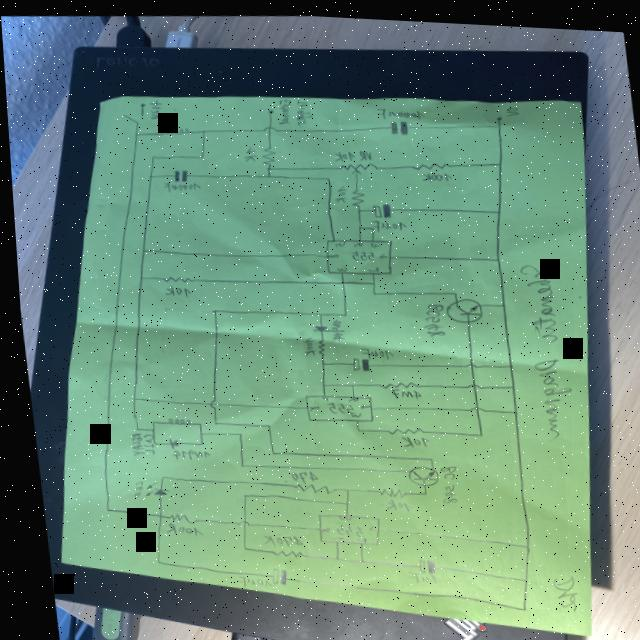capacitor: (405, 551, 429, 571), (385, 114, 409, 133), (368, 197, 390, 217), (261, 563, 280, 584), (344, 353, 364, 370), (169, 167, 187, 181)
crossover: (460, 377, 475, 387), (228, 516, 243, 526), (462, 401, 478, 409), (457, 358, 473, 366), (201, 396, 212, 407), (259, 123, 275, 130), (334, 276, 343, 284)
diode: (136, 480, 163, 497), (306, 320, 326, 331), (161, 436, 173, 448)
inductor: (163, 124, 189, 134), (160, 415, 185, 425)
junction: (502, 379, 511, 386), (505, 404, 513, 411), (351, 204, 359, 211), (510, 601, 519, 607), (500, 358, 509, 364), (420, 452, 429, 458), (493, 156, 501, 162), (470, 427, 478, 433), (491, 204, 499, 210), (494, 297, 502, 303), (516, 539, 524, 545), (150, 512, 156, 520), (230, 429, 237, 435), (147, 558, 154, 564), (136, 246, 143, 252), (353, 221, 360, 227), (191, 419, 198, 425), (233, 491, 241, 496), (97, 506, 103, 512), (414, 486, 420, 492), (233, 543, 239, 549), (349, 424, 355, 430), (490, 252, 497, 257), (350, 555, 357, 560), (366, 287, 373, 292), (206, 307, 213, 312), (325, 554, 332, 559), (336, 484, 343, 489), (322, 173, 329, 178), (134, 274, 141, 279), (263, 448, 269, 453), (259, 421, 265, 426), (147, 153, 153, 158), (198, 127, 204, 132), (232, 461, 238, 466), (196, 152, 202, 157), (125, 395, 131, 400), (447, 286, 453, 291), (131, 131, 137, 136), (127, 425, 133, 430), (262, 171, 269, 175), (366, 277, 371, 282), (206, 419, 212, 423), (152, 474, 158, 478), (343, 380, 349, 384), (337, 309, 343, 313), (143, 419, 149, 423), (263, 164, 269, 168), (514, 573, 520, 577), (315, 358, 321, 362), (335, 498, 341, 502), (192, 430, 198, 434), (192, 440, 198, 444), (144, 426, 150, 430), (493, 120, 499, 124), (313, 309, 319, 313), (145, 440, 150, 444), (367, 223, 371, 227), (145, 174, 149, 178), (316, 381, 322, 383)
resistor: (285, 478, 331, 493), (336, 157, 375, 174), (409, 155, 449, 168), (372, 375, 412, 387), (381, 421, 419, 433), (158, 510, 190, 524), (256, 142, 275, 164), (157, 272, 188, 285), (263, 545, 296, 557), (369, 483, 398, 495), (345, 185, 361, 203), (310, 335, 322, 354)
switch: (120, 111, 143, 123)
terminal: (264, 105, 273, 113), (493, 109, 501, 117), (136, 100, 145, 107)
text: (512, 255, 572, 439), (373, 100, 425, 120), (415, 298, 443, 334), (431, 460, 453, 501), (290, 95, 313, 125), (254, 530, 297, 546), (225, 570, 263, 588), (156, 519, 196, 536), (366, 214, 405, 230), (398, 565, 434, 582), (325, 517, 357, 536), (272, 94, 292, 124), (164, 446, 204, 460), (353, 342, 390, 357), (159, 179, 200, 192), (383, 383, 417, 398), (282, 467, 312, 483), (377, 494, 407, 510), (319, 397, 351, 412), (393, 430, 424, 445), (121, 430, 139, 455), (158, 283, 188, 297), (134, 431, 152, 454), (418, 167, 449, 180), (145, 97, 161, 119), (345, 246, 372, 259), (324, 316, 340, 337), (239, 143, 256, 161), (330, 147, 353, 160), (296, 333, 310, 354), (331, 181, 345, 201), (124, 480, 137, 498), (354, 146, 370, 158), (503, 100, 518, 112), (330, 236, 342, 245), (323, 249, 336, 257), (330, 510, 344, 517), (363, 262, 375, 270), (373, 248, 385, 256), (322, 532, 337, 538), (311, 523, 323, 530), (302, 402, 314, 409), (344, 408, 356, 415), (353, 399, 365, 406), (366, 238, 376, 246), (348, 533, 359, 540), (332, 262, 343, 269), (349, 237, 359, 244), (342, 394, 352, 399), (360, 521, 368, 527), (316, 393, 322, 399)
transistor: (439, 290, 480, 320), (400, 461, 432, 484)
